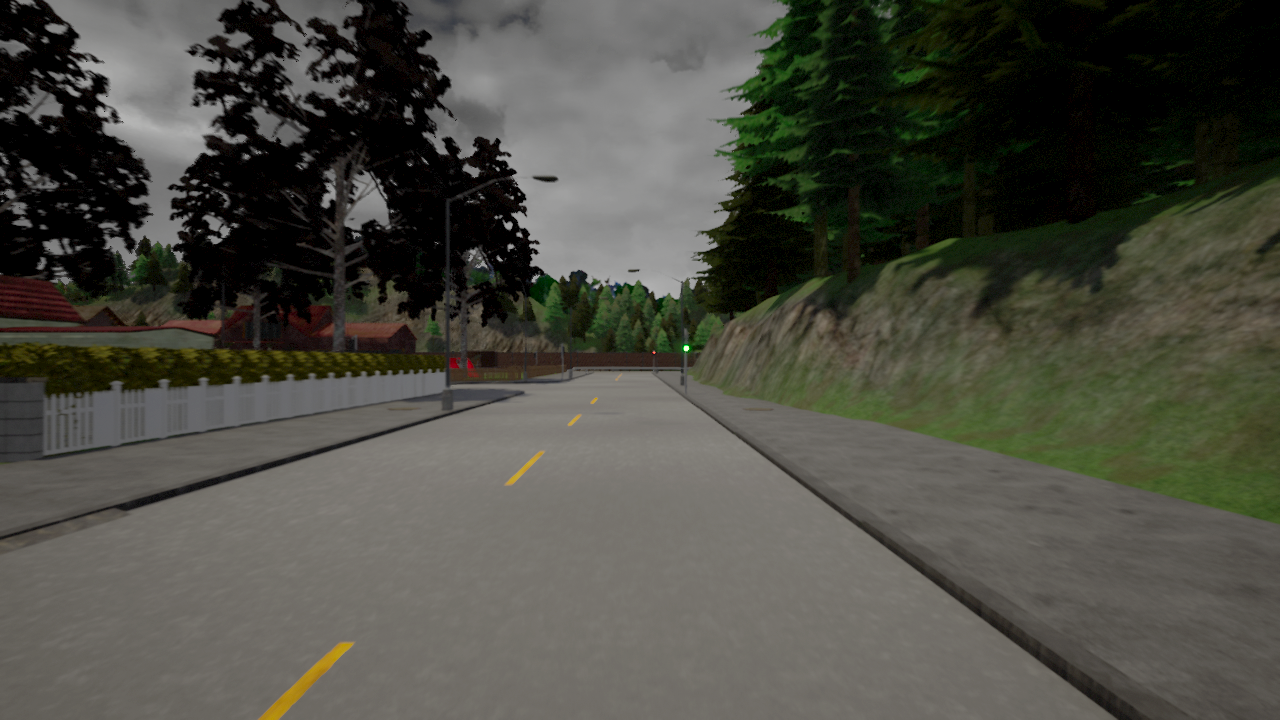green: (682, 334, 691, 353)
